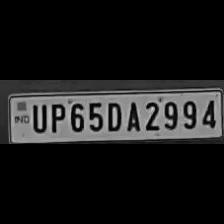2: (140, 98, 160, 132)
4: (198, 96, 218, 128)
5: (86, 100, 104, 132)
6: (66, 100, 84, 132)
9: (178, 97, 198, 129), (160, 97, 178, 129)
A: (124, 100, 140, 132)
D: (104, 99, 122, 131)
P: (47, 100, 65, 134)
U: (29, 101, 47, 133)
